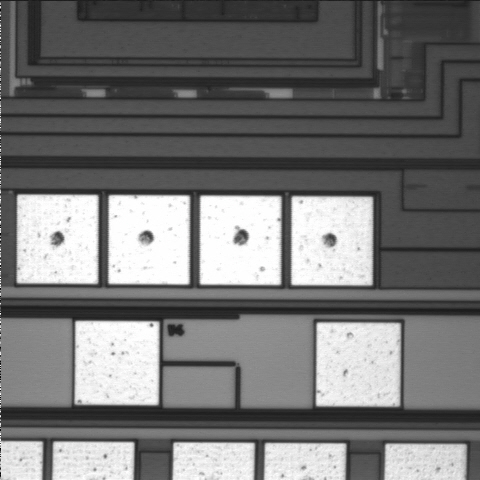pad: (108, 195, 190, 285), (291, 196, 373, 285), (17, 195, 98, 284), (200, 196, 281, 285), (75, 321, 159, 405), (316, 323, 400, 406)
